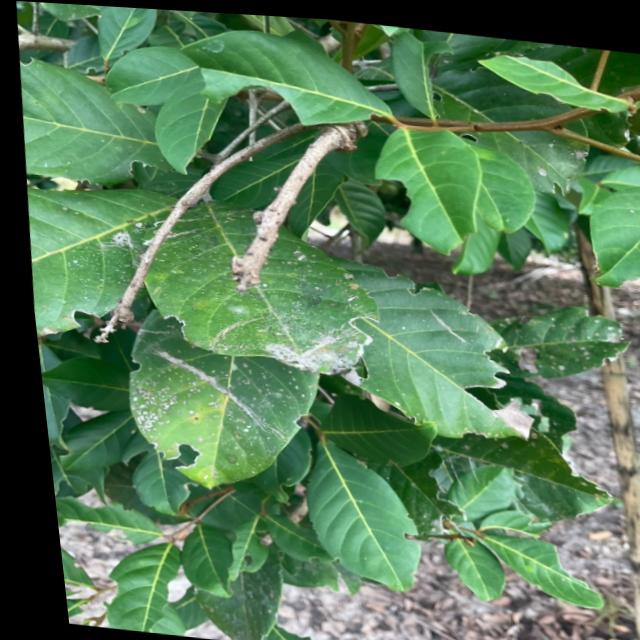Algal Leaf Spot: (129, 208, 400, 451)
